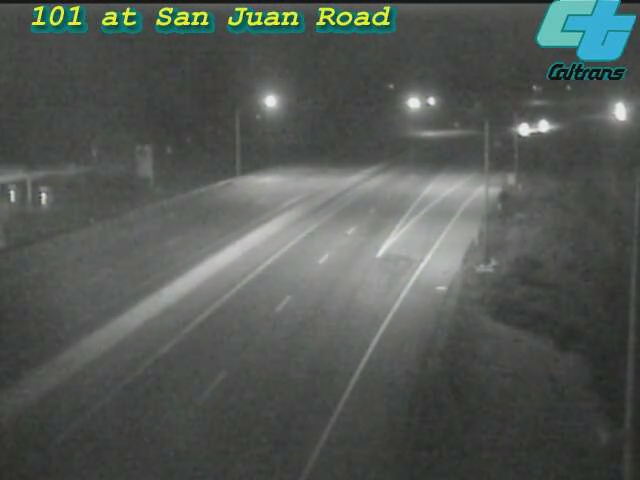vehicle: (515, 102, 565, 152), (494, 106, 544, 156), (592, 88, 640, 138)
